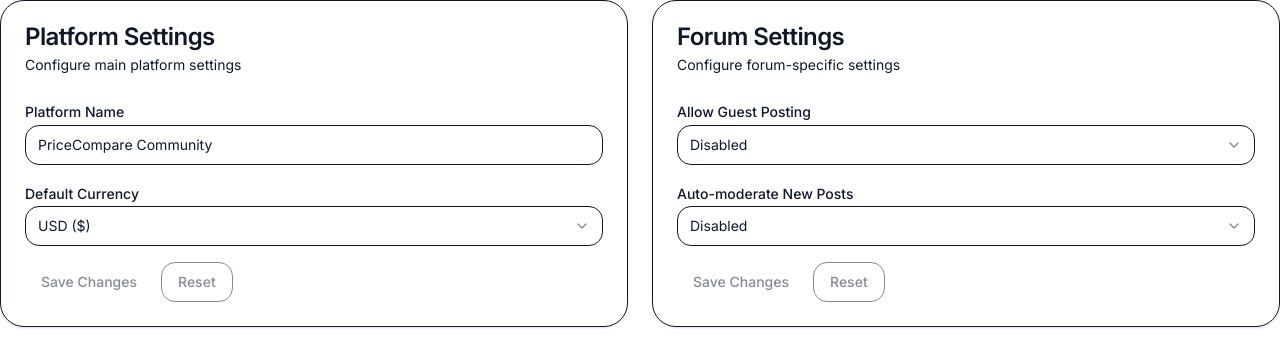
Test: AdminSettings › should reset platform settings when reset button is clicked
The image size is (1280, 345).
Replace the text in the field labelled "Platform Name" with "Changed Name". click: (314, 145)
box: top-left (25, 125), bottom-right (603, 165)
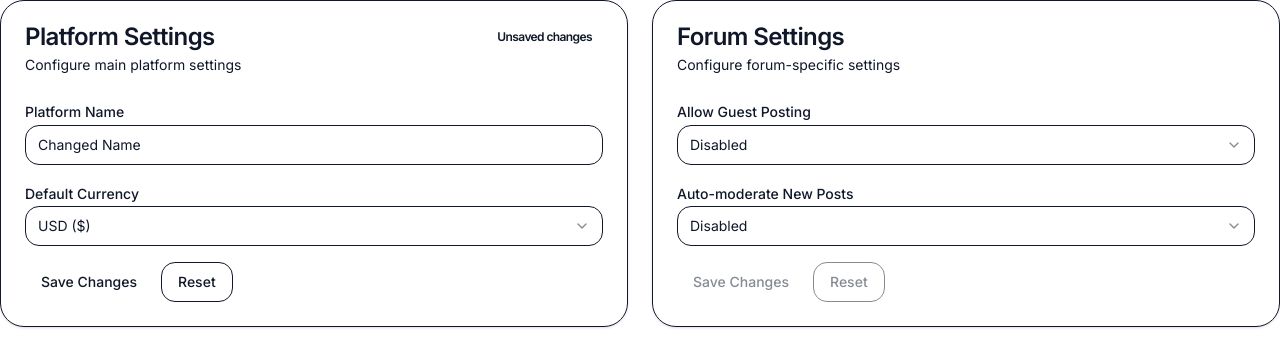
Click the button "Reset" below "Default Currency". click: (197, 282)
box: top-left (161, 262), bottom-right (233, 302)
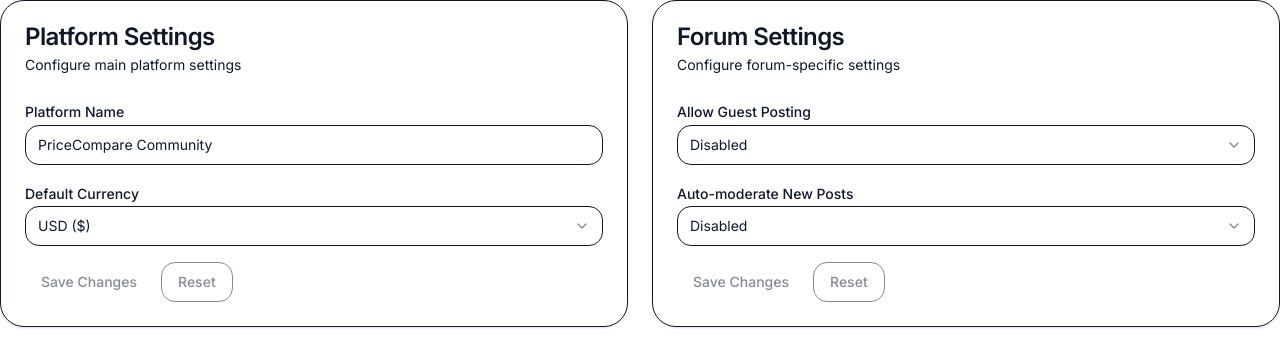
Result: the field labelled "Platform Name" holds "PriceCompare Community" at top-left (25, 125), bottom-right (603, 165)
